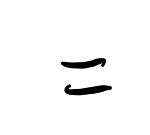eqv: (61, 58, 112, 96)
